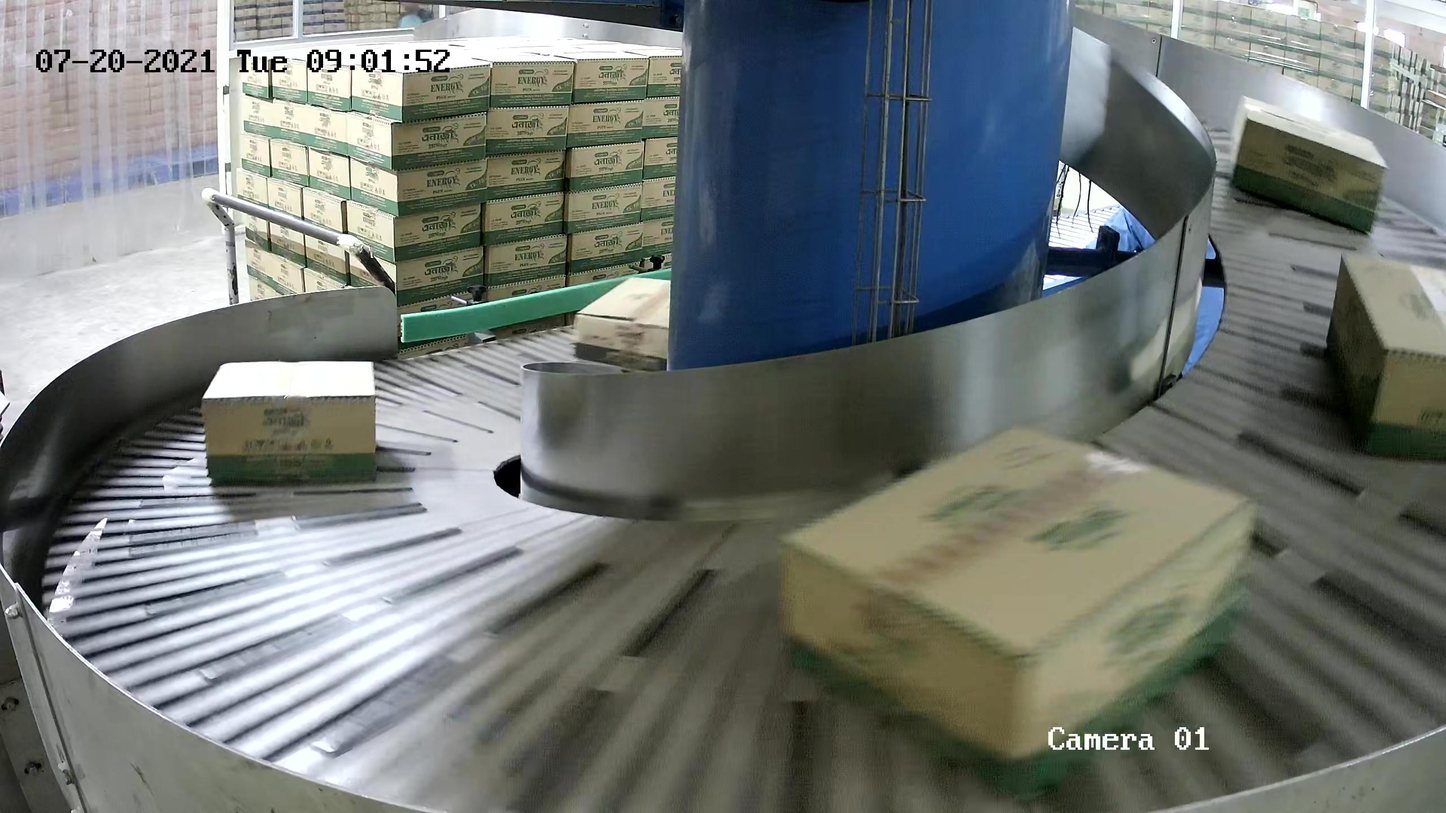Box: (778, 419, 1262, 805), (1325, 250, 1446, 462), (1228, 93, 1389, 235), (200, 359, 378, 484), (574, 275, 671, 372)
